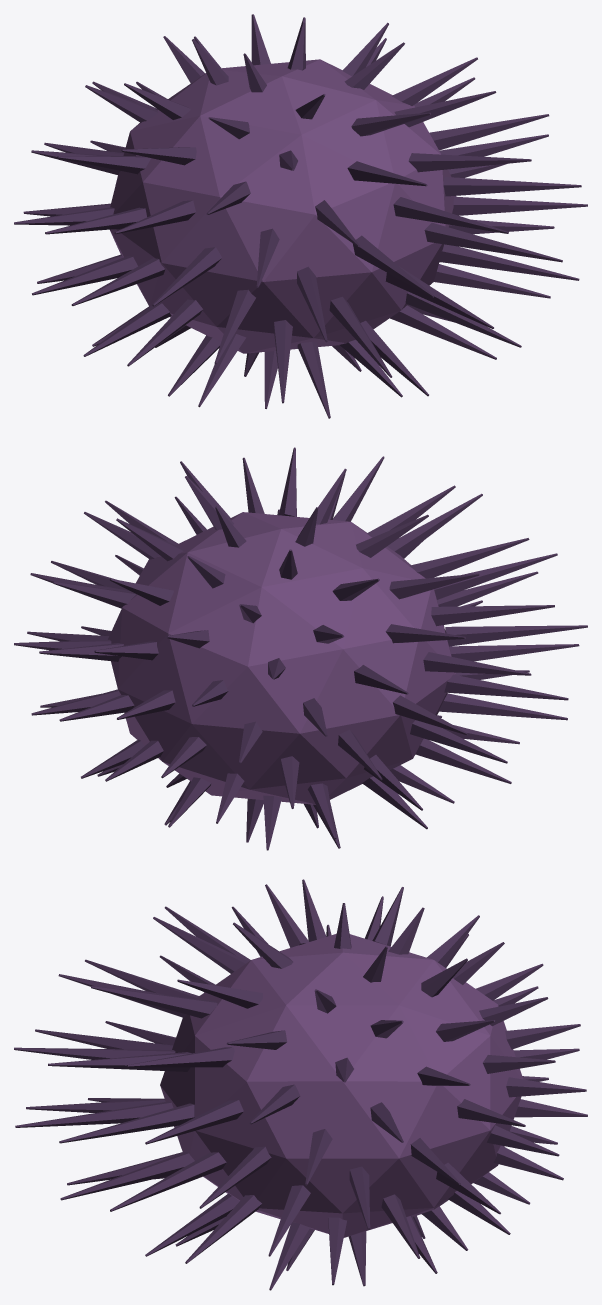
Rendered from SeaUrchin.fbx.
The picture shows the model from 3 angles, top to bottom: view 1: azimuth 30°, elevation 25°; view 2: azimuth 150°, elevation 25°; view 3: azimuth 270°, elevation 25°; orthographic projection. The views are drawn at different scales.
Parts seen in each view (by area): view 1: Body, Spine48, Spine35, Spine56, Spine43, Spine69, Spine61, Spine64, Spine22, Spine14, Spine34, Spine42 (+40 smaller); view 2: Body, Spine50, Spine29, Spine63, Spine42, Spine37, Spine71, Spine55, Spine58, Spine66, Spine34, Spine21 (+37 smaller); view 3: Body, Spine48, Spine40, Spine35, Spine27, Spine74, Spine69, Spine56, Spine61, Spine53, Spine14, Spine79 (+44 smaller).
Boxes of the visible parts, left/top/right/bottom form: Body: left=110, top=59, right=456, bottom=353; Spine48: left=424, top=222, right=562, bottom=262; Spine35: left=436, top=244, right=579, bottom=280; Spine56: left=443, top=177, right=581, bottom=196; Spine43: left=452, top=196, right=587, bottom=215; Spine69: left=408, top=153, right=531, bottom=172; Spine61: left=393, top=197, right=508, bottom=233; Spine64: left=429, top=114, right=549, bottom=150; Spine22: left=433, top=264, right=550, bottom=298; Spine14: left=390, top=305, right=496, bottom=359; Spine34: left=32, top=256, right=137, bottom=295; Spine42: left=71, top=258, right=165, bottom=305; Body: left=108, top=512, right=455, bottom=804; Spine50: left=445, top=625, right=587, bottom=646; Spine29: left=438, top=693, right=567, bottom=720; Spine63: left=431, top=605, right=554, bottom=626; Spine42: left=444, top=674, right=568, bottom=700; Spine37: left=449, top=644, right=579, bottom=661; Spine71: left=410, top=538, right=529, bottom=578; Spine55: left=423, top=652, right=531, bottom=675; Spine58: left=434, top=553, right=557, bottom=599; Spine66: left=387, top=493, right=482, bottom=556; Spine34: left=410, top=720, right=507, bottom=763; Spine21: left=415, top=738, right=511, bottom=783; Body: left=160, top=934, right=522, bottom=1237; Spine48: left=59, top=1103, right=194, bottom=1143; Spine40: left=15, top=1101, right=173, bottom=1127; Spine35: left=110, top=1152, right=226, bottom=1211; Spine27: left=60, top=1151, right=194, bottom=1200; Spine74: left=91, top=986, right=217, bottom=1018; Spine69: left=126, top=1047, right=234, bottom=1067; Spine56: left=145, top=1100, right=243, bottom=1144; Spine61: left=48, top=1052, right=191, bottom=1071; Spine53: left=14, top=1047, right=175, bottom=1059; Spine14: left=145, top=1193, right=239, bottom=1256; Spine79: left=153, top=917, right=248, bottom=973.
Bounding box in the file's own units: 0.4803 × 0.2973 × 0.4713.
